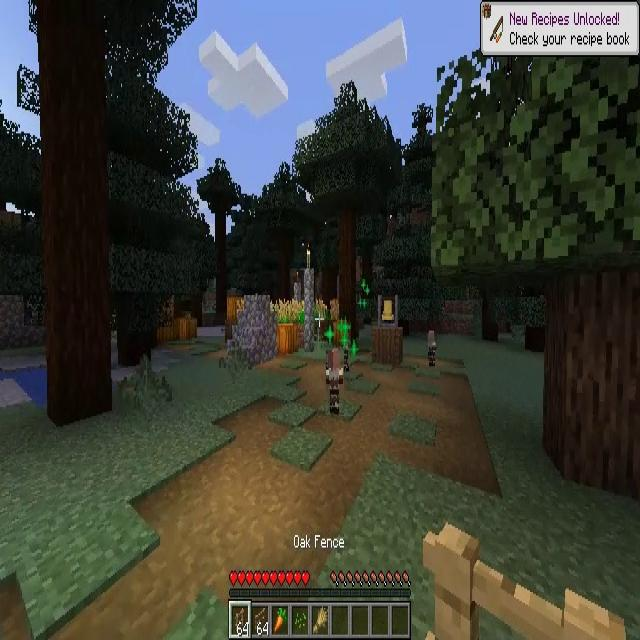people: (326, 350, 344, 415), (427, 330, 437, 366)
